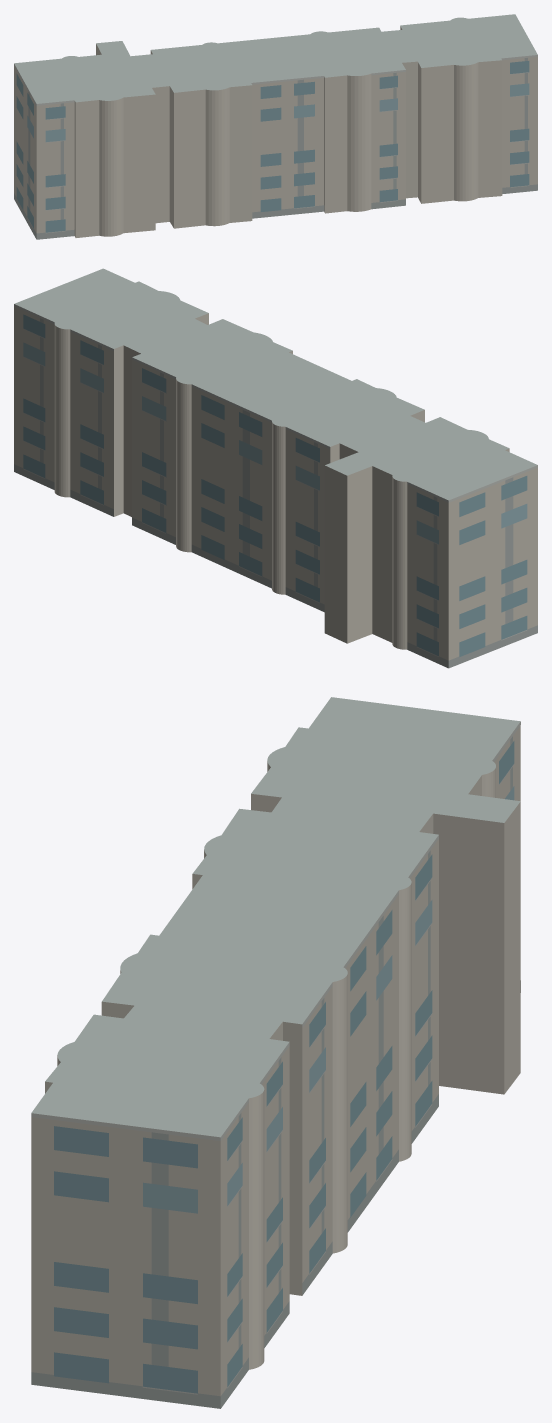
The model's file is survey-upis-32872777.glb.
The picture shows the model from 3 angles, top to bottom: view 1: azimuth 30°, elevation 25°; view 2: azimuth 150°, elevation 25°; view 3: azimuth 270°, elevation 25°; orthographic projection. The views are drawn at different scales.
Visible parts, largest first — view 1: survey-upis-32872777.tmp; view 2: survey-upis-32872777.tmp; view 3: survey-upis-32872777.tmp.
Boxes of the visible parts, box(x1,y1,x2,y2) form: survey-upis-32872777.tmp: box(14, 14, 537, 239); survey-upis-32872777.tmp: box(14, 268, 537, 668); survey-upis-32872777.tmp: box(31, 697, 520, 1408).
Size of the model in its own units: 60.16 by 17.3 by 28.28.
